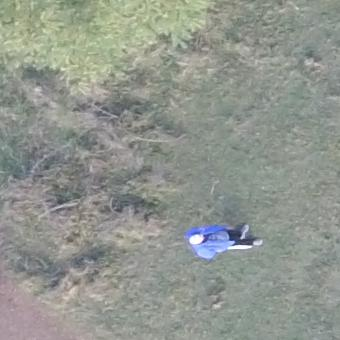human: (185, 221, 265, 261)
